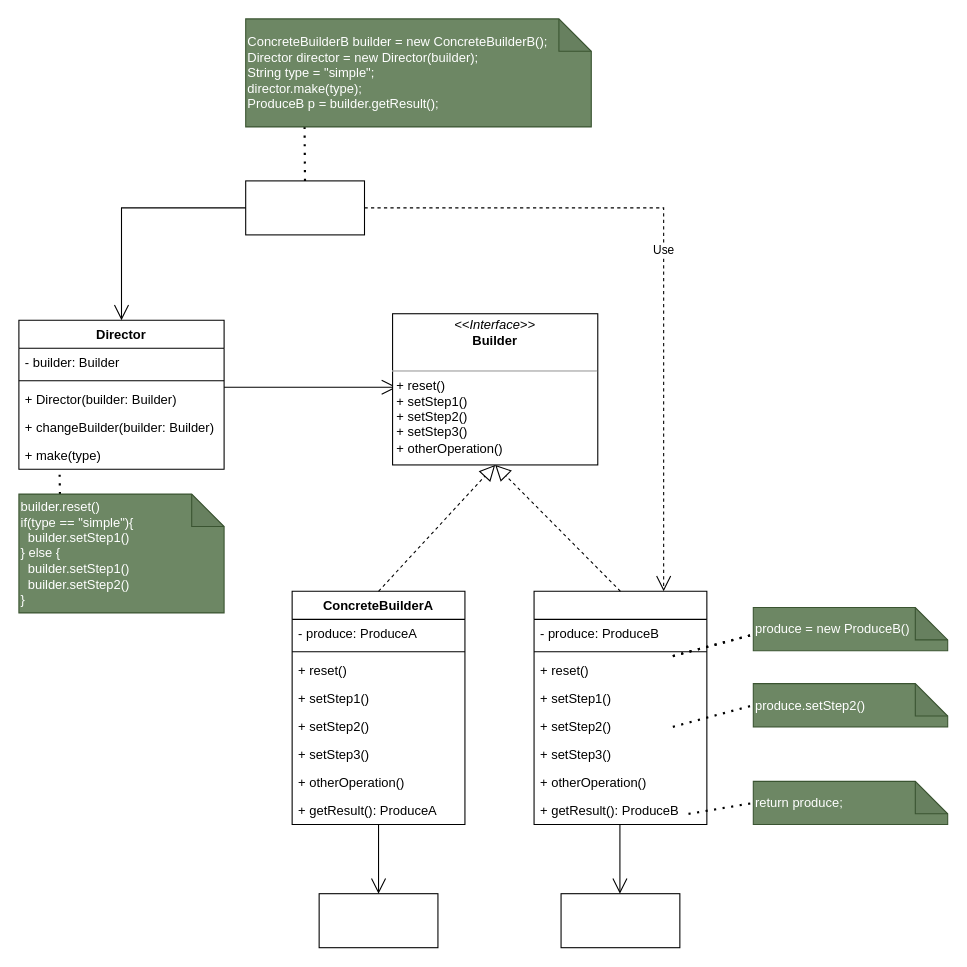
This 967x967 diagram has some shape labels left out. Here are the shapes that lost their labels. From the top down, the box of each, then its label:
(245, 180, 364, 235): Client
(533, 590, 707, 825): ConcreteBuilderB
(318, 893, 438, 948): ProduceA
(560, 893, 680, 948): ProduceB
